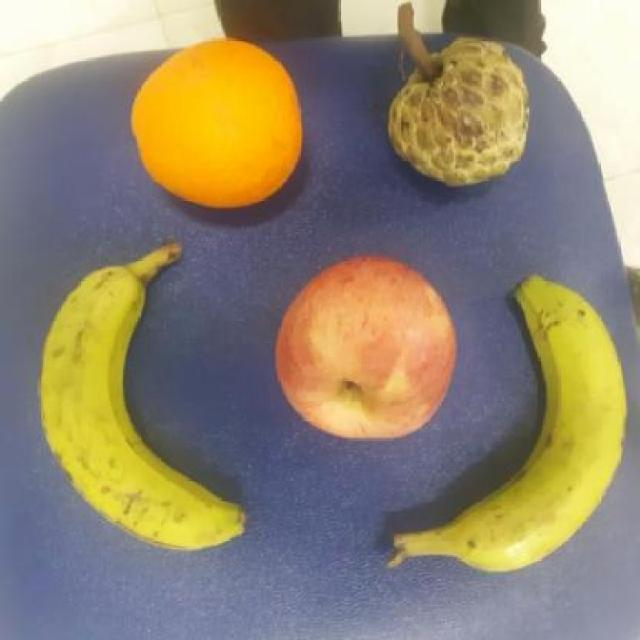apple: (270, 249, 464, 442)
banana: (25, 262, 258, 556), (450, 270, 628, 578)
oren: (128, 31, 308, 211)
sugar apple: (380, 36, 538, 196)
